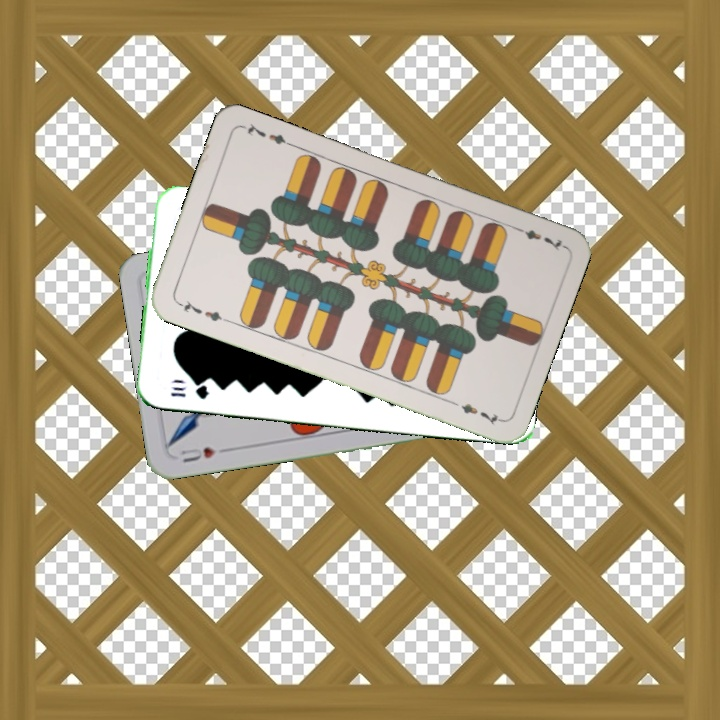E7: (173, 295, 231, 325), (510, 222, 566, 253)
G10: (167, 381, 211, 402)
HU: (176, 443, 230, 466)
